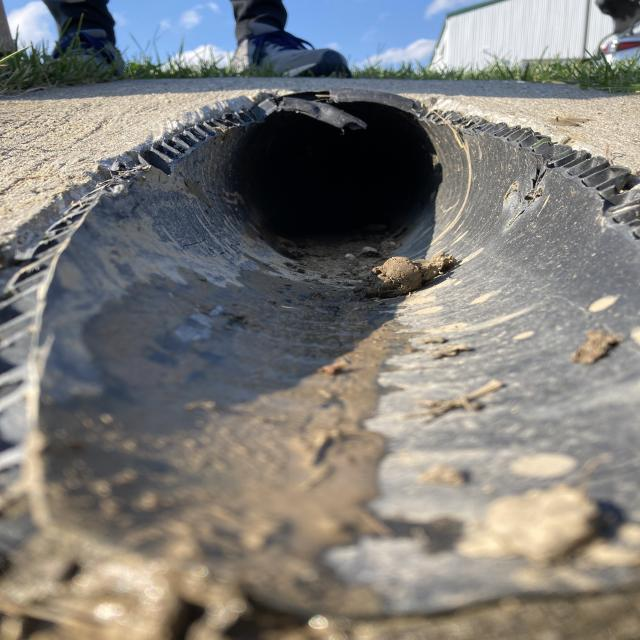dirt: (246, 295, 369, 497), (318, 250, 456, 288)
